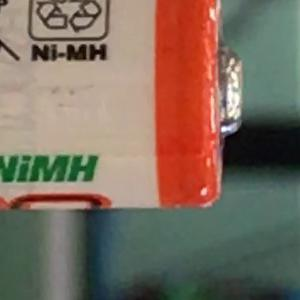NI-MH: (21, 34, 117, 71)
